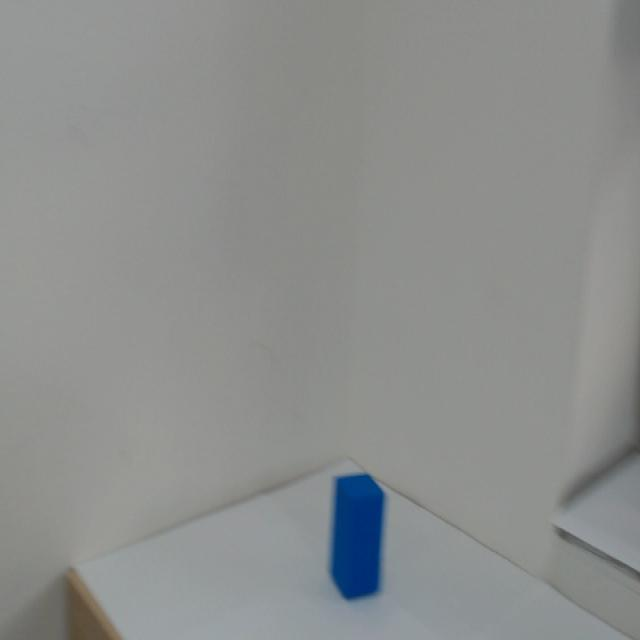cube: (302, 449, 410, 640)
